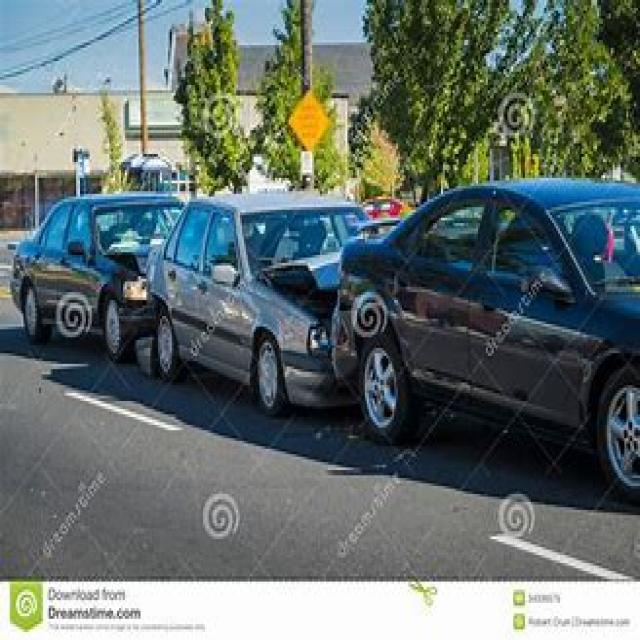Accident: (73, 118, 640, 518)
